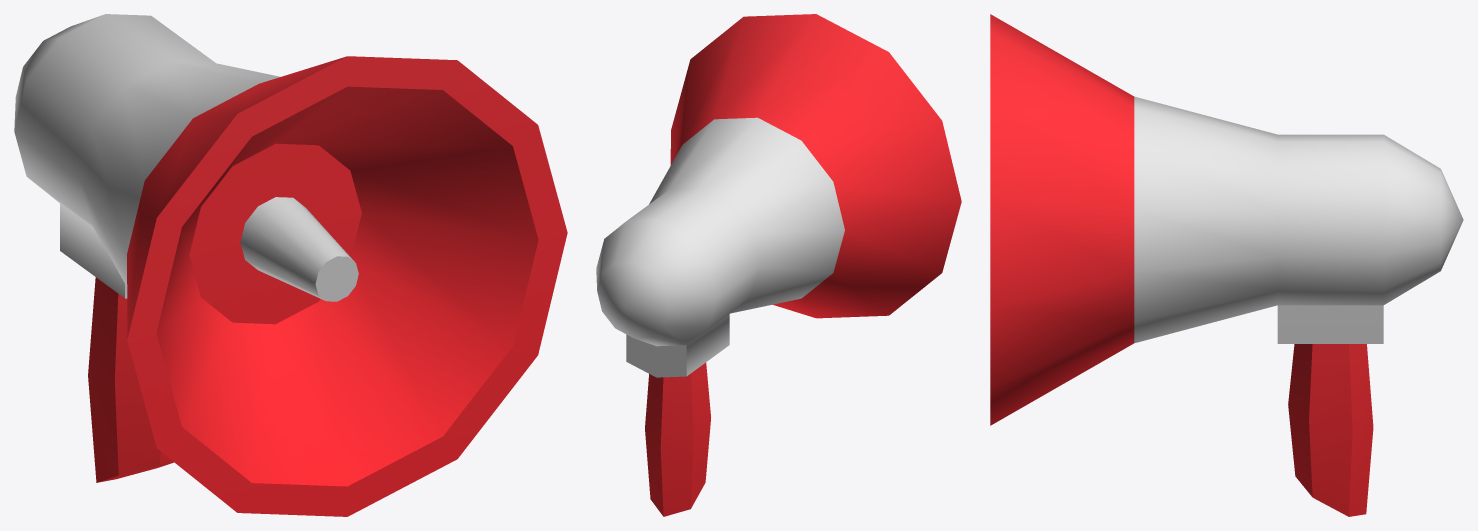
File: Megaphone_B.fbx
3 renders of one model, left to right at view 1: azimuth 30°, elevation 25°; view 2: azimuth 150°, elevation 25°; view 3: azimuth 270°, elevation 25°, orthographic. The views are drawn at different scales.
Visible parts, largest first — view 1: Megaphone_B; view 2: Megaphone_B; view 3: Megaphone_B.
Boxes of the visible parts, bbox=[...] form: Megaphone_B: bbox=[14, 14, 567, 516]; Megaphone_B: bbox=[596, 14, 961, 516]; Megaphone_B: bbox=[990, 14, 1463, 516].
Bounding box in the file's own units: 40.66 × 52.25 × 46.55.
